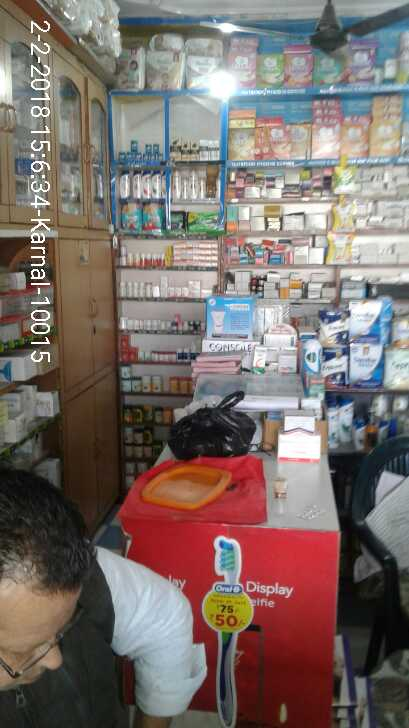beauty: (150, 167, 165, 201), (171, 166, 184, 201), (130, 169, 144, 200), (118, 170, 130, 202), (141, 167, 152, 201), (168, 136, 182, 162), (188, 166, 199, 196), (211, 138, 222, 160), (189, 138, 199, 160), (199, 138, 208, 161), (182, 138, 190, 161)
pharmacy: (118, 199, 147, 230), (142, 201, 166, 230), (186, 213, 220, 231), (142, 137, 160, 152), (112, 151, 126, 162), (128, 137, 138, 151)
